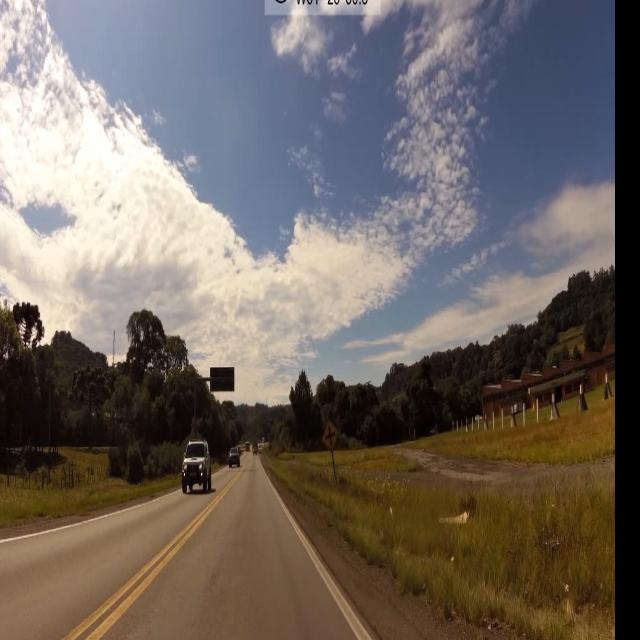A-6: (320, 422, 340, 453)
